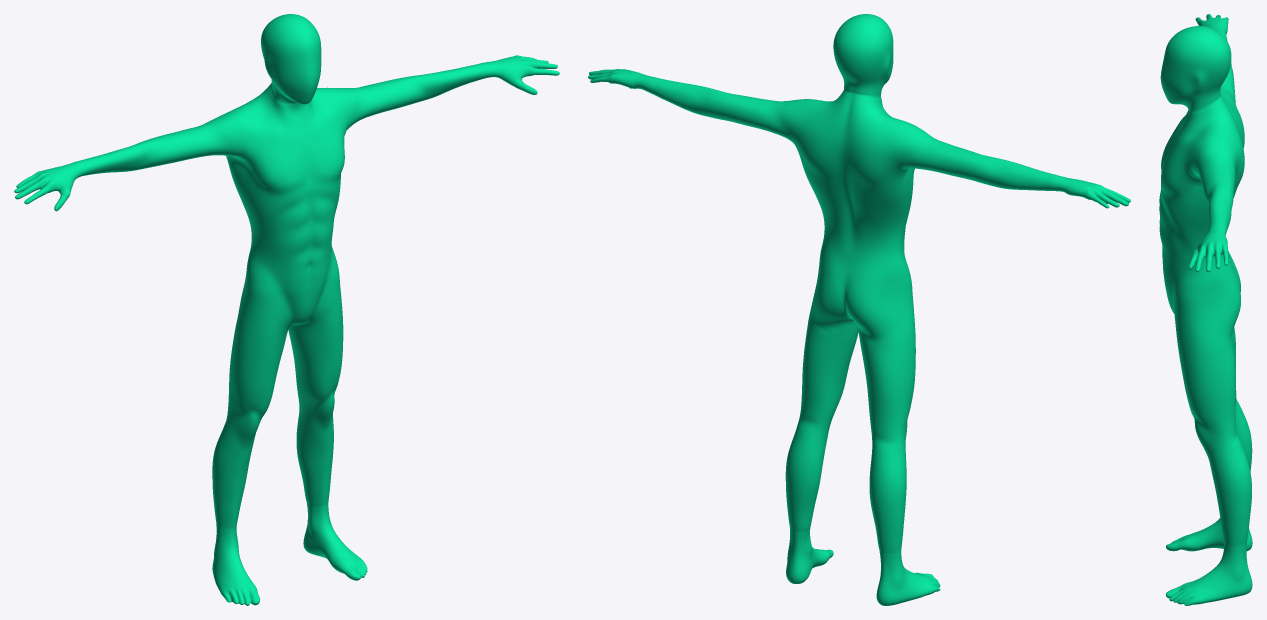
File: person18.fbx
3 views of the same model, side by side, from view 1: azimuth 30°, elevation 25°; view 2: azimuth 150°, elevation 25°; view 3: azimuth 270°, elevation 25° (orthographic). The views are drawn at different scales.
Visible parts, largest first — view 1: Ch36; view 2: Ch36; view 3: Ch36.
Part boxes in pixels (box(x1,y1,x2,y2)): Ch36: box(14, 14, 559, 605); Ch36: box(588, 14, 1130, 605); Ch36: box(1159, 14, 1252, 605).
Size of the model in its own units: 601 by 598 by 92.48.
